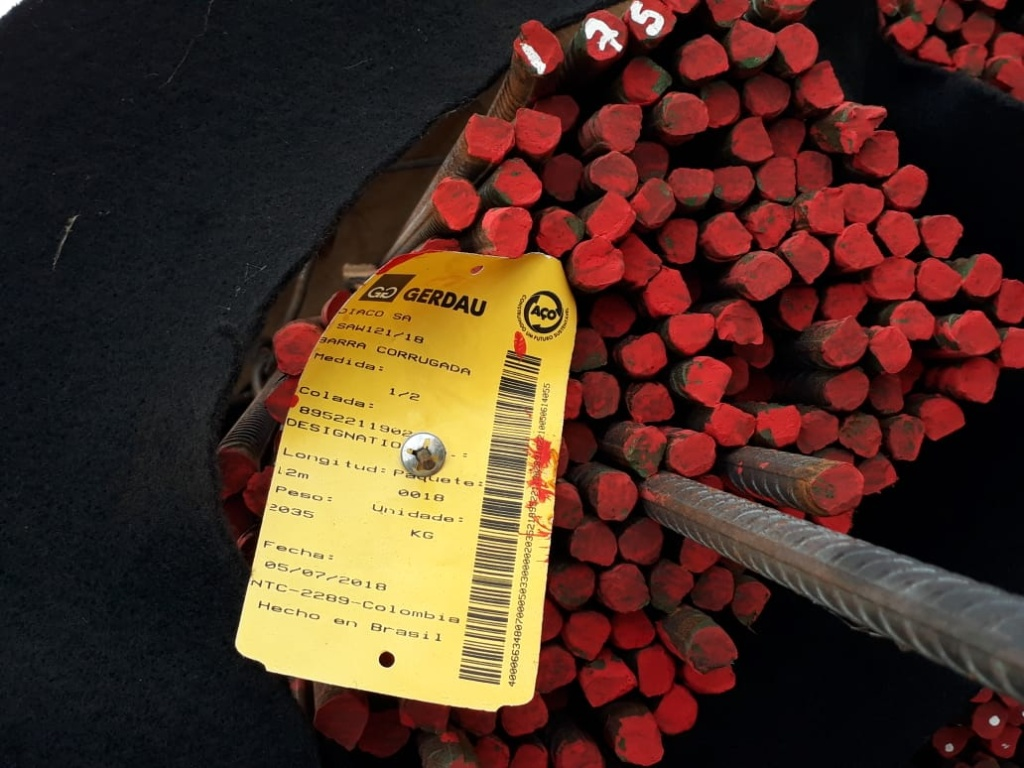dipstick: (824, 99, 886, 155), (567, 237, 625, 287), (579, 658, 636, 707), (512, 22, 563, 74), (577, 10, 629, 60), (463, 114, 515, 164), (812, 461, 860, 515), (276, 320, 329, 368), (834, 222, 881, 275), (590, 467, 636, 521), (582, 195, 637, 240), (703, 211, 752, 261), (598, 567, 650, 614), (564, 612, 615, 659), (317, 698, 368, 744), (798, 62, 847, 109), (783, 231, 832, 278), (950, 309, 999, 356), (738, 252, 788, 298), (618, 236, 661, 289), (752, 403, 801, 448), (837, 415, 887, 459), (747, 201, 793, 248), (571, 519, 617, 566), (687, 629, 733, 676), (550, 563, 597, 609), (647, 270, 692, 318), (867, 258, 916, 302), (916, 396, 968, 437), (695, 81, 740, 128), (674, 40, 730, 77), (617, 717, 663, 762), (730, 22, 777, 66), (513, 111, 561, 154), (872, 325, 914, 374), (434, 180, 479, 225), (875, 211, 919, 257), (364, 712, 410, 756), (214, 444, 258, 490), (622, 62, 669, 105), (482, 211, 531, 252), (582, 370, 621, 421), (686, 359, 730, 404), (819, 320, 864, 364), (590, 296, 636, 339), (660, 94, 708, 135), (397, 697, 451, 733), (882, 166, 930, 206), (636, 648, 676, 696), (627, 384, 676, 423), (915, 259, 959, 302), (773, 28, 818, 70), (859, 129, 900, 175), (631, 181, 677, 222), (617, 521, 663, 562), (625, 429, 667, 473), (596, 109, 641, 150), (961, 251, 1001, 297), (671, 433, 718, 472), (491, 165, 539, 203), (822, 370, 870, 408), (541, 159, 583, 202), (798, 408, 836, 455), (533, 211, 581, 248), (890, 415, 927, 463), (840, 181, 882, 223), (652, 569, 695, 610), (719, 304, 763, 344), (710, 403, 754, 443), (593, 152, 640, 189), (622, 331, 664, 372), (920, 217, 960, 260), (780, 286, 820, 329), (564, 329, 607, 369), (890, 305, 934, 344), (959, 361, 1000, 402), (658, 692, 699, 733), (730, 121, 772, 161), (746, 76, 789, 115), (756, 159, 799, 198), (613, 610, 657, 648), (534, 646, 572, 690), (669, 167, 713, 204), (455, 699, 499, 736), (626, 4, 678, 35), (856, 456, 899, 493), (684, 662, 737, 692), (806, 195, 845, 235), (662, 222, 700, 263), (697, 569, 734, 611), (670, 315, 713, 351), (629, 143, 670, 180), (504, 700, 546, 736), (893, 15, 932, 53), (552, 480, 581, 530), (986, 53, 1024, 91), (794, 151, 833, 188), (870, 373, 905, 414), (736, 581, 770, 622), (556, 740, 605, 768), (268, 374, 296, 423), (244, 468, 273, 514), (539, 96, 579, 129), (712, 168, 752, 201), (764, 121, 805, 153), (824, 285, 865, 317), (994, 281, 1024, 322), (678, 537, 719, 567), (973, 704, 1006, 741), (998, 325, 1024, 370), (470, 737, 506, 768), (538, 596, 561, 644), (952, 48, 990, 77), (961, 15, 995, 47), (735, 337, 772, 366), (322, 290, 354, 322), (568, 428, 597, 462), (723, 359, 750, 395), (815, 511, 852, 537), (708, 3, 749, 26), (422, 237, 461, 260), (512, 743, 546, 768), (919, 39, 949, 67), (935, 729, 963, 759), (936, 7, 966, 34), (993, 729, 1020, 756), (996, 32, 1024, 56), (915, 1, 940, 25), (771, 3, 813, 15)
